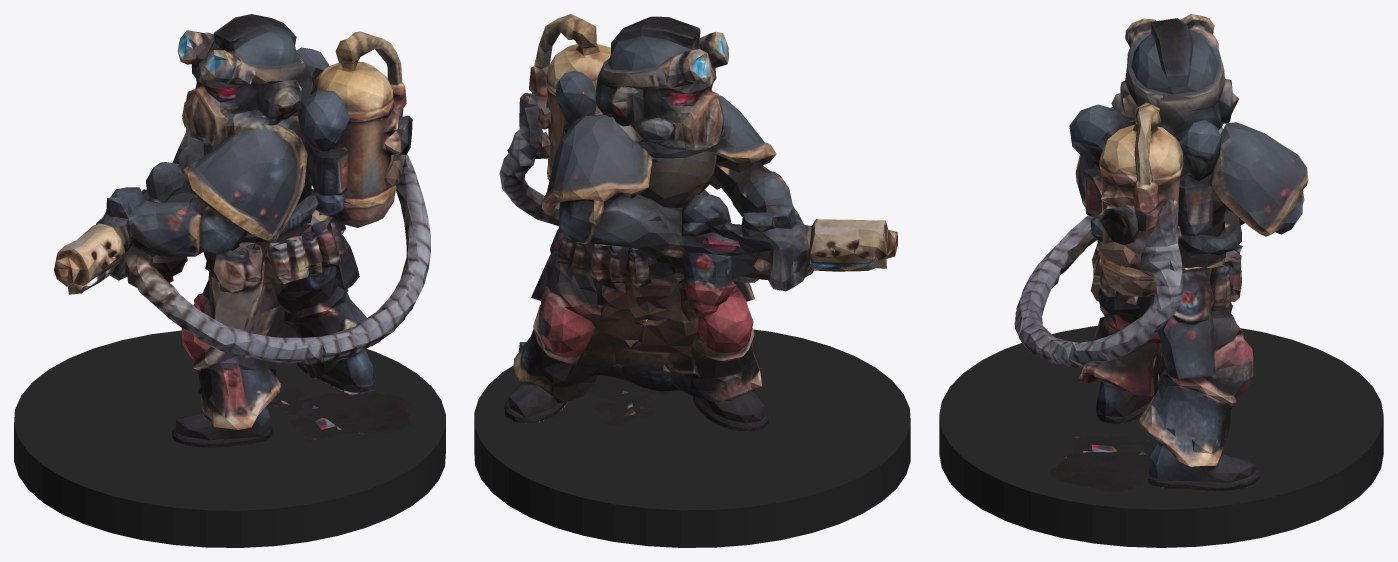
The model's file is lg-gunner.glb.
3 views of the same model, side by side, from view 1: azimuth 30°, elevation 25°; view 2: azimuth 150°, elevation 25°; view 3: azimuth 270°, elevation 25° (orthographic). The views are drawn at different scales.
Visible parts, largest first — view 1: figure, base; view 2: figure, base; view 3: figure, base.
Part boxes in pixels (<box>): figure: <box>54,14,430,448</box>; base: <box>14,330,445,547</box>; figure: <box>499,14,897,431</box>; base: <box>474,329,910,547</box>; figure: <box>1014,14,1308,491</box>; base: <box>939,326,1383,547</box>.
Bounding box in the file's own units: 1.26 × 1.37 × 1.26.
2 materials, 1 textured.
